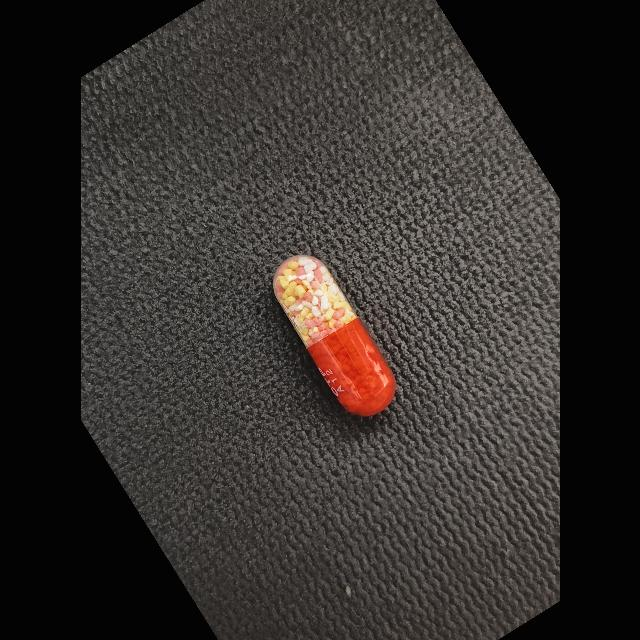Intact Capsule: (272, 255, 396, 417)
